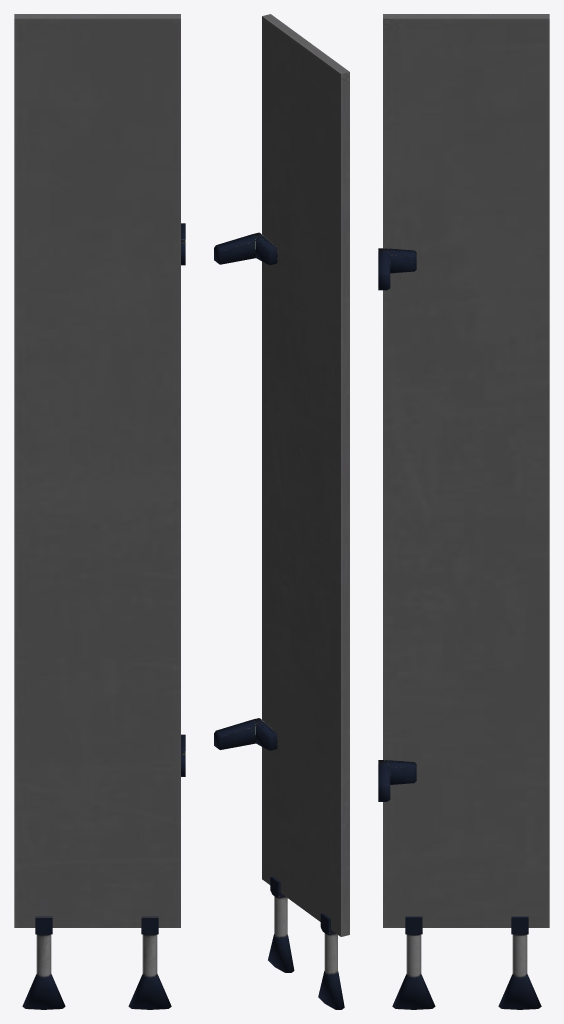
Rendered from SM_Bathroom_Stalls_End_01.glb.
The picture shows the model from 3 angles, left to right: view 1: azimuth 90°, elevation 25°; view 2: azimuth 210°, elevation 25°; view 3: azimuth 270°, elevation 25°; orthographic projection. The views are drawn at different scales.
Parts seen in each view (by area): view 1: SM_Bathroom_Stalls_End_01; view 2: SM_Bathroom_Stalls_End_01; view 3: SM_Bathroom_Stalls_End_01.
Boxes of the visible parts, x1,y1,x2,y2 form: SM_Bathroom_Stalls_End_01: (14, 14, 185, 1009); SM_Bathroom_Stalls_End_01: (214, 14, 349, 1009); SM_Bathroom_Stalls_End_01: (378, 14, 549, 1009).
Size of the model in its own units: 0.1465 by 2.31 by 0.3622.
Materials: 1 (1 with a texture image).
